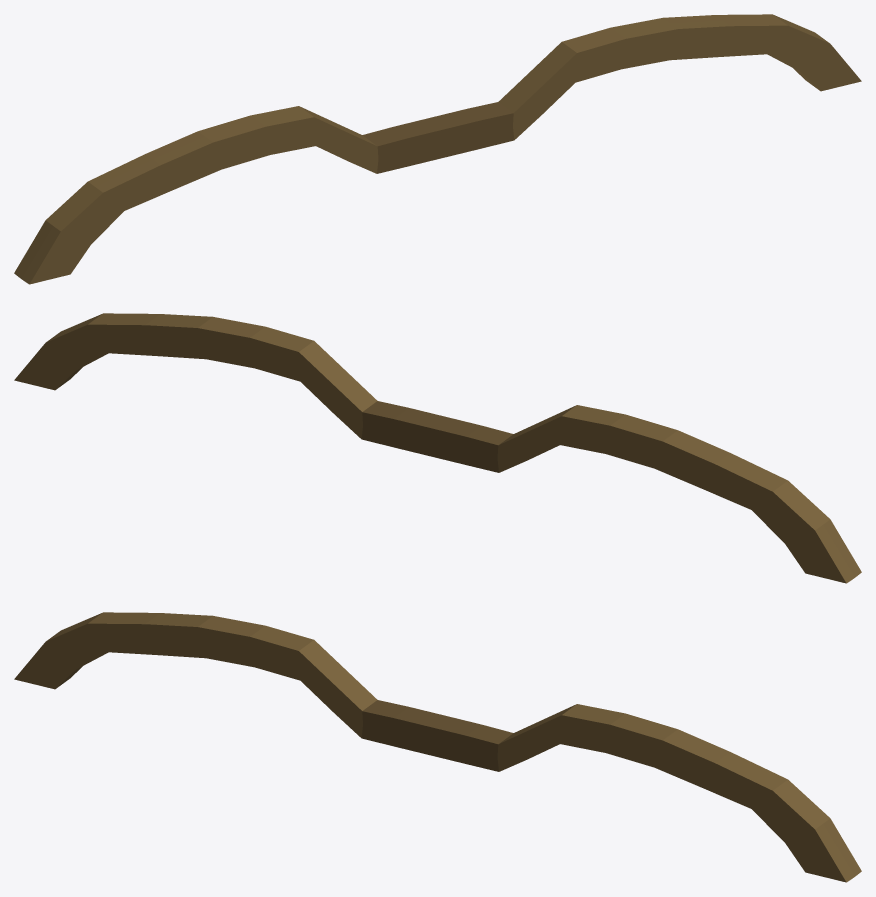
The model's file is Bow.fbx.
The picture shows the model from 3 angles, top to bottom: view 1: azimuth 30°, elevation 25°; view 2: azimuth 150°, elevation 25°; view 3: azimuth 330°, elevation 25°; orthographic projection.
Visible parts, largest first — view 1: Bow; view 2: Bow; view 3: Bow.
Part boxes in pixels (x1,y1,x2,y2): Bow: (14, 14, 861, 284); Bow: (14, 313, 861, 583); Bow: (14, 612, 861, 882).
Bounding box in the file's own units: 62.63 × 7.19 × 2.
